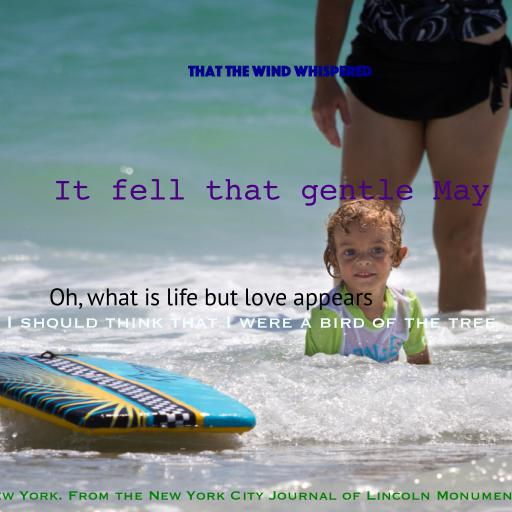Copperplate: (6, 316, 496, 328), (0, 490, 512, 501)
Courier: (52, 179, 490, 206)
PT Sans: (49, 288, 373, 311)
Phosphate: (188, 65, 372, 77)
